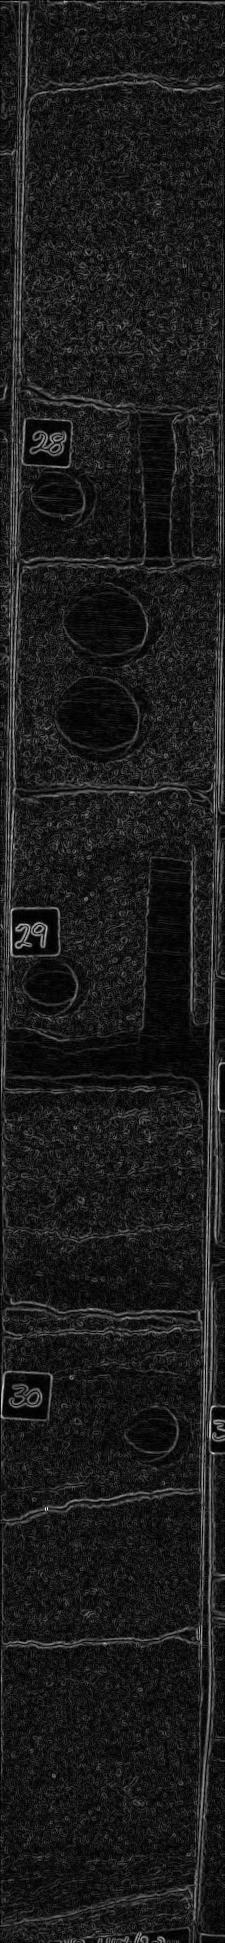hplug: (23, 462, 103, 540), (117, 1397, 197, 1475), (15, 950, 93, 1026)
scal: (54, 576, 169, 672), (53, 672, 163, 770)
vplug: (119, 394, 203, 580), (135, 836, 205, 1032)
